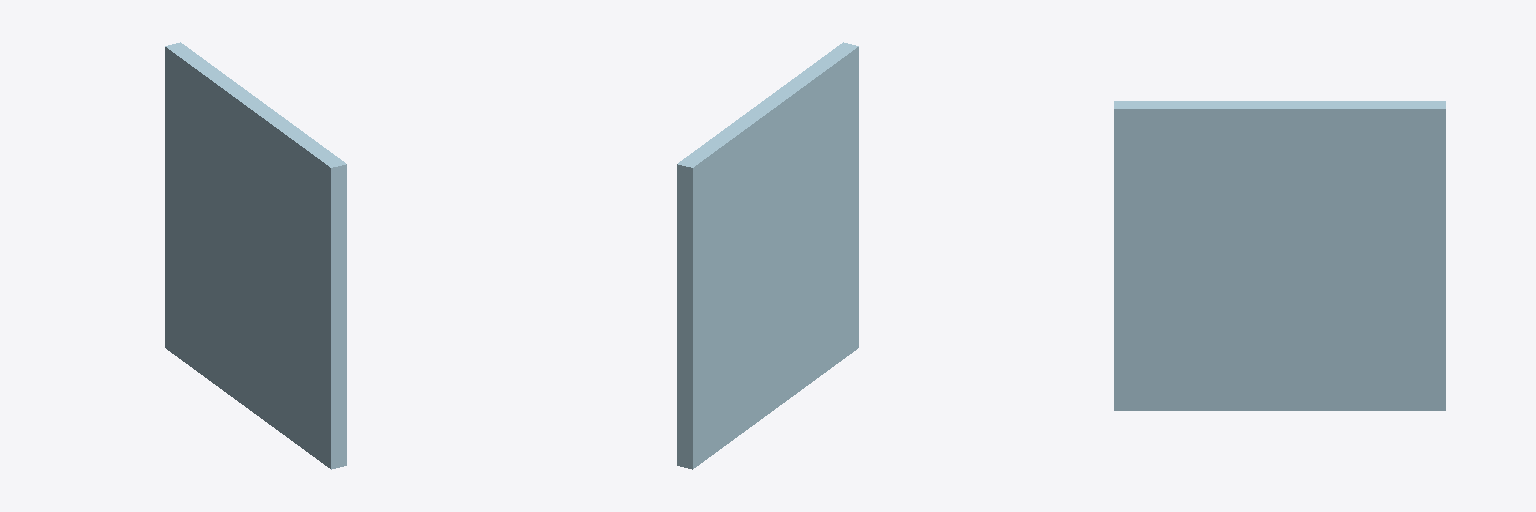
3 renders of one model, left to right at view 1: azimuth 30°, elevation 25°; view 2: azimuth 150°, elevation 25°; view 3: azimuth 270°, elevation 25°, orthographic.
Parts seen in each view (by area): view 1: object 1; view 2: object 1; view 3: object 1.
Part boxes in pixels (x1,y1,x2,y2): object 1: (165, 42, 346, 469); object 1: (677, 42, 858, 469); object 1: (1114, 101, 1445, 410).
Size of the model in its own units: 0.2 by 3.6 by 3.6.
Materials: 1 (1 with a texture image).